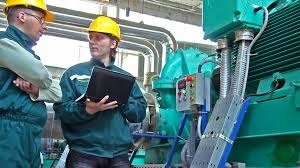helmet: (81, 14, 126, 41), (2, 1, 58, 22)
person with partial safety: (60, 15, 148, 162), (1, 1, 54, 164)
